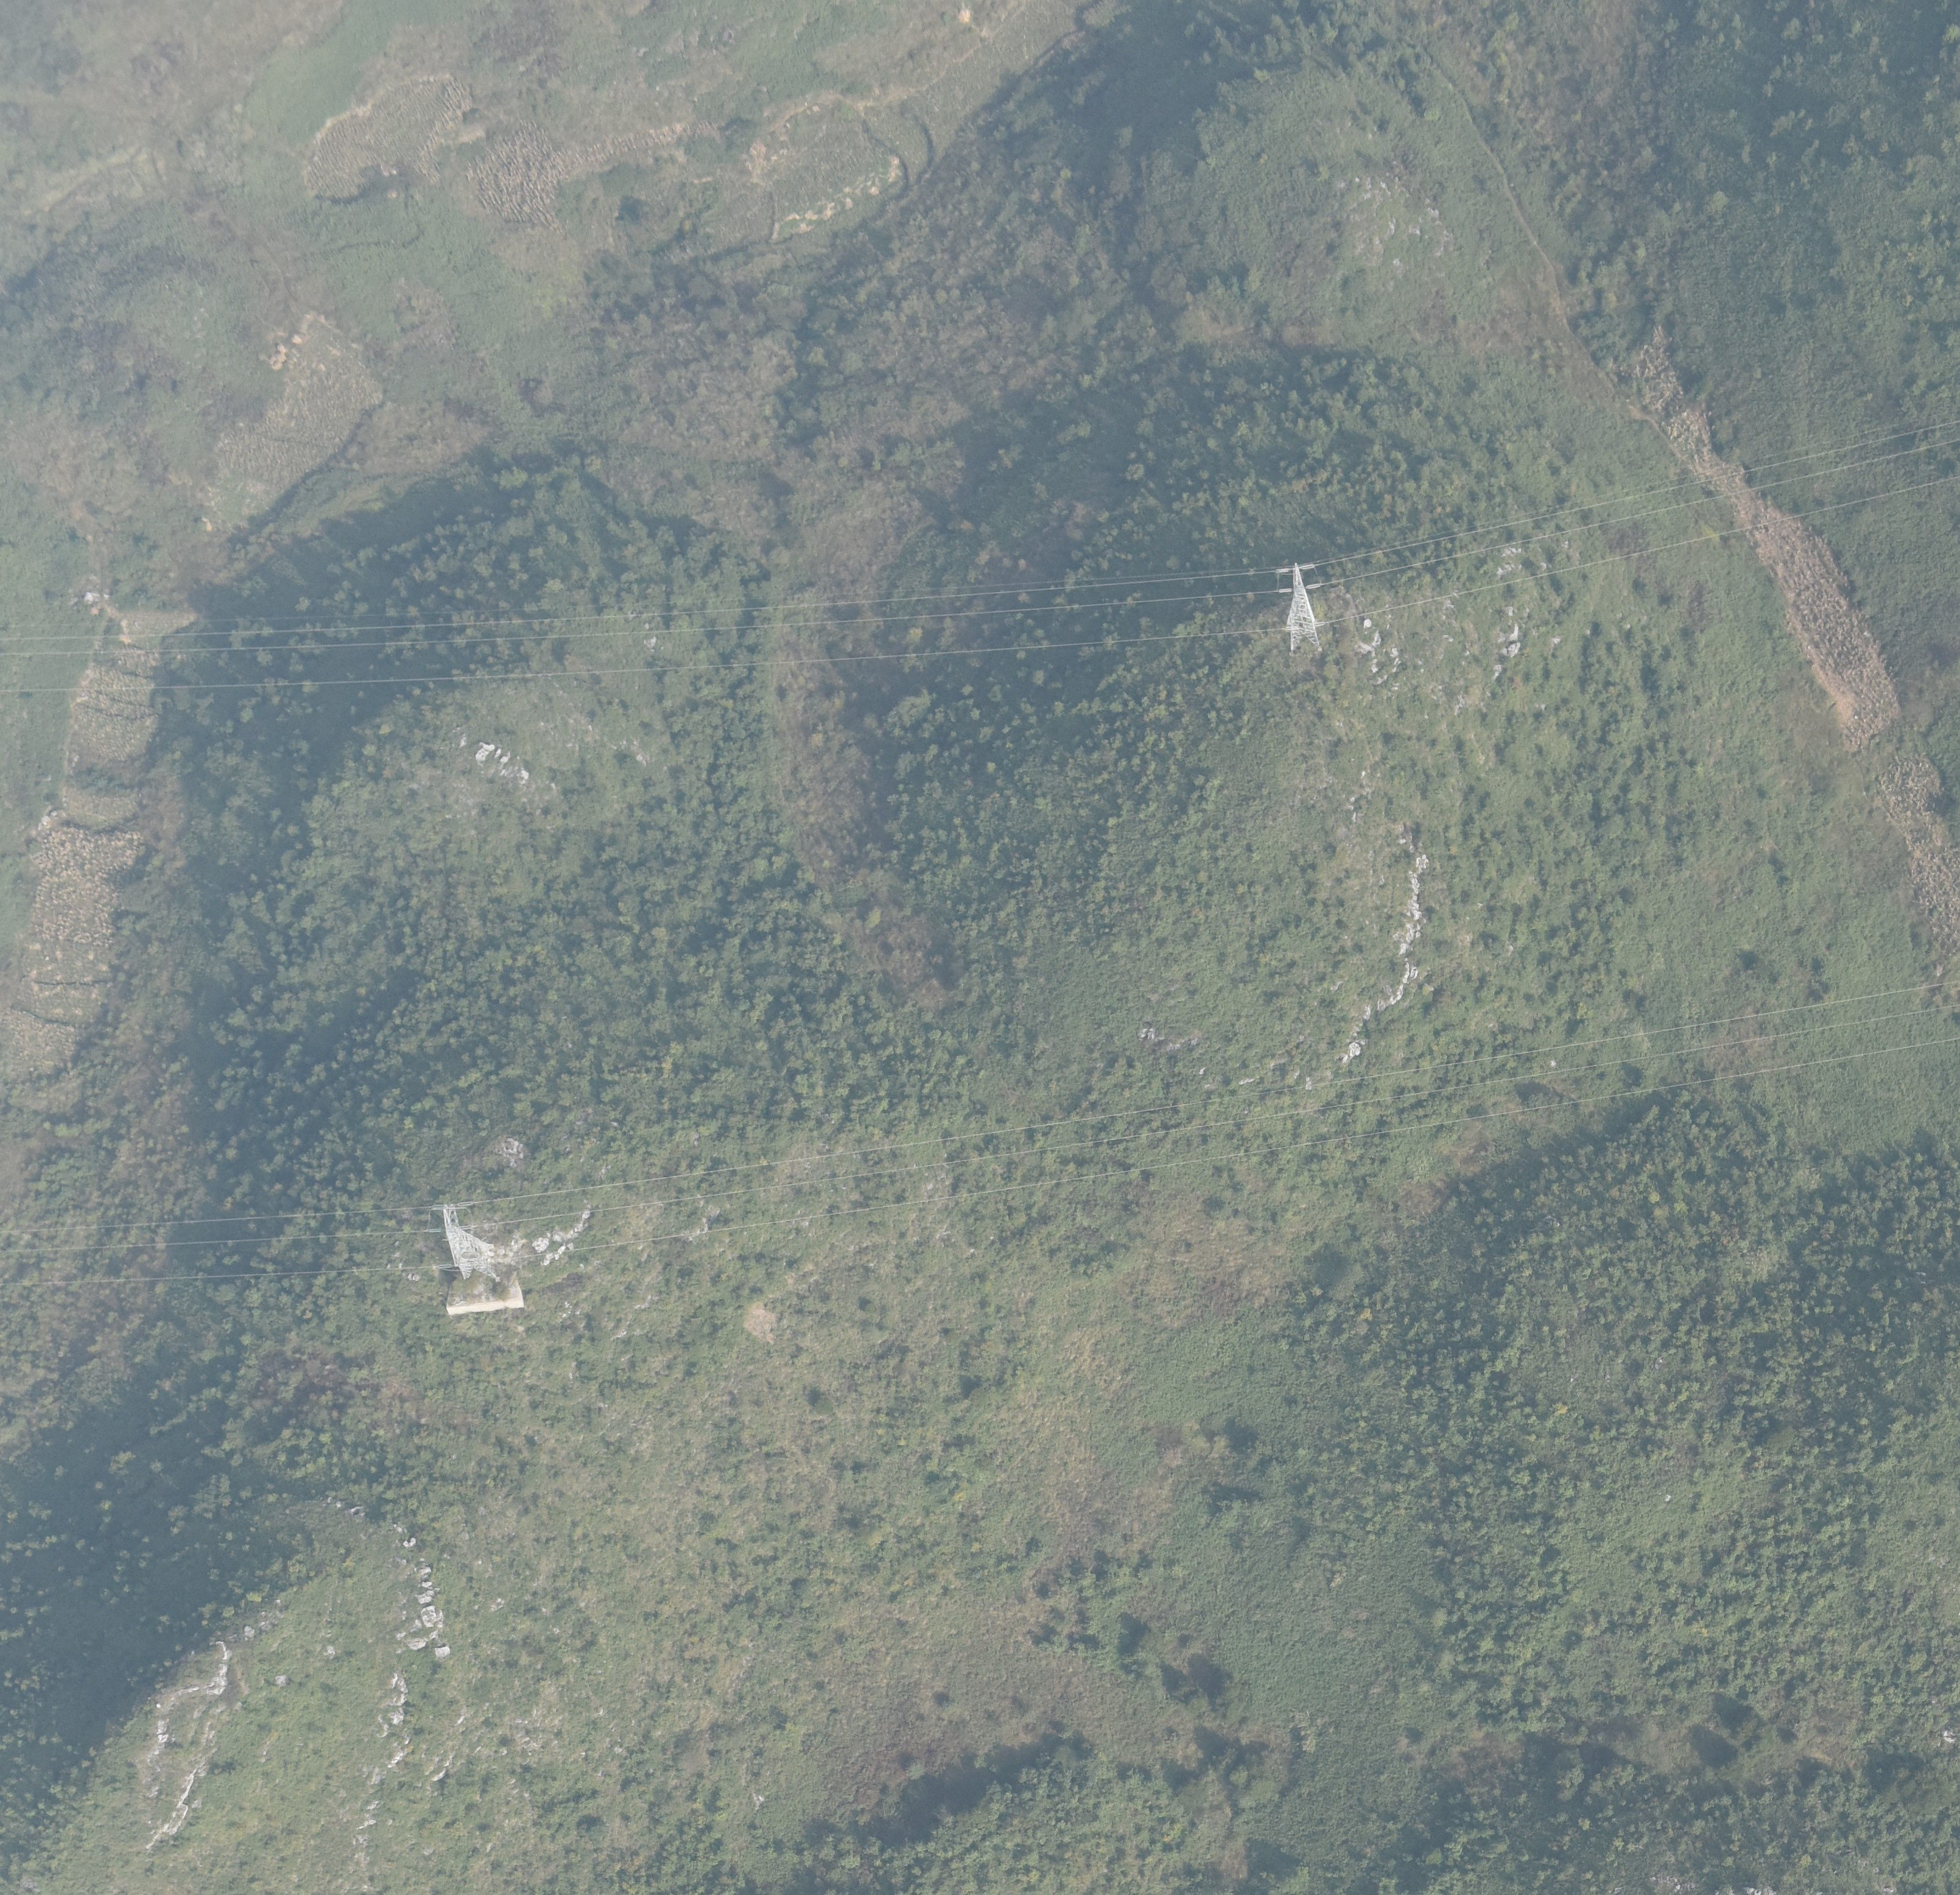cable-tower: (430, 1200, 500, 1281), (1277, 561, 1326, 652)
